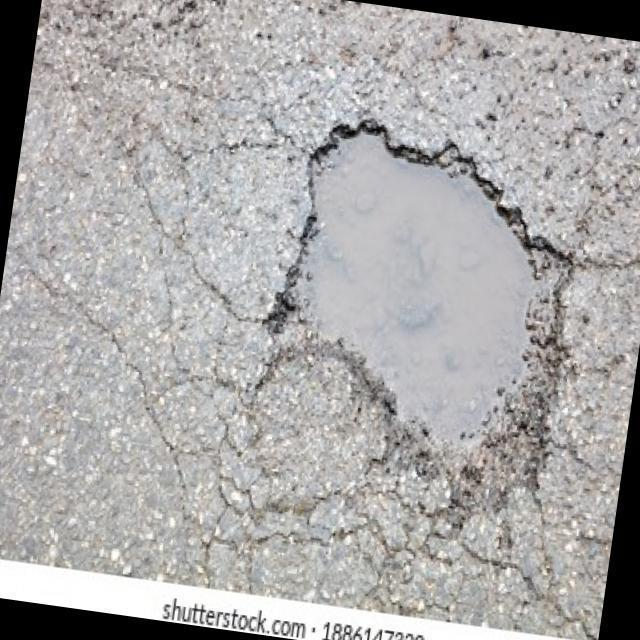Pothole: (265, 119, 574, 530)
